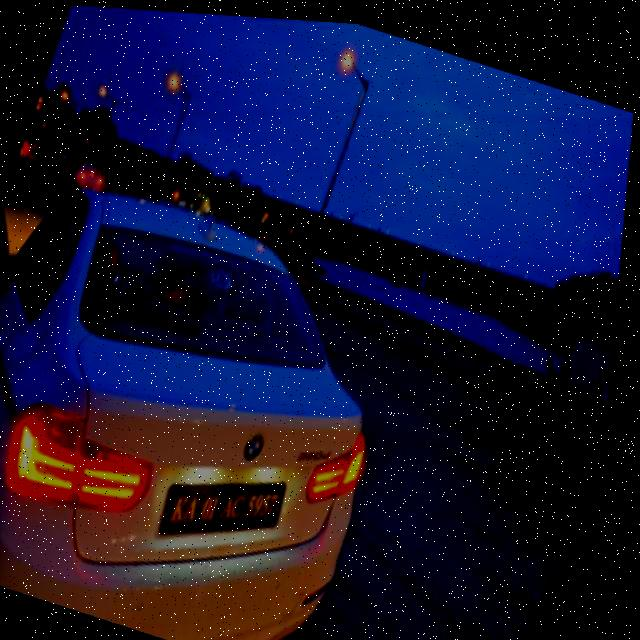license_plate: (157, 430, 307, 578)
